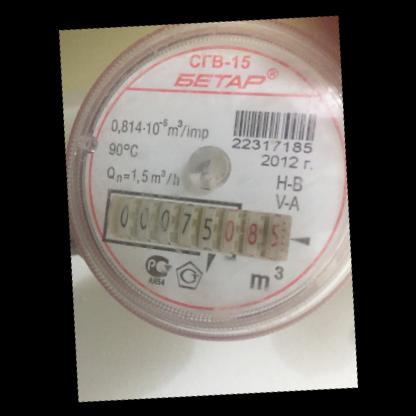digital_screen: (97, 185, 225, 257)
